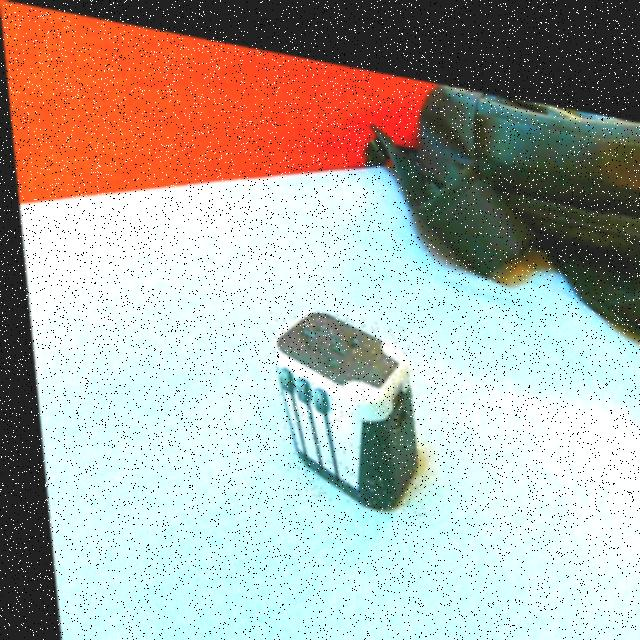adapter: (265, 289, 417, 504)
